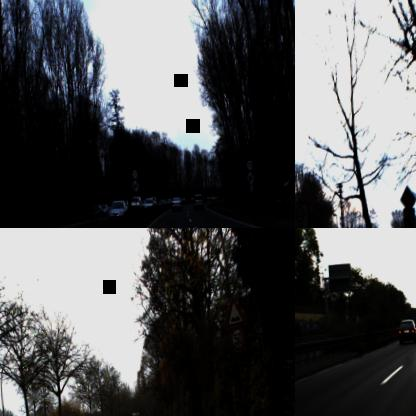priority road: (399, 184, 416, 210)
restriction ends -overtaking-: (245, 170, 254, 184), (131, 179, 139, 192)
speed limit 30: (295, 204, 305, 222)
speed limit 50: (228, 324, 245, 352)
speed limit 70: (245, 157, 254, 171), (130, 167, 139, 180)
uneven road: (224, 294, 246, 329)
